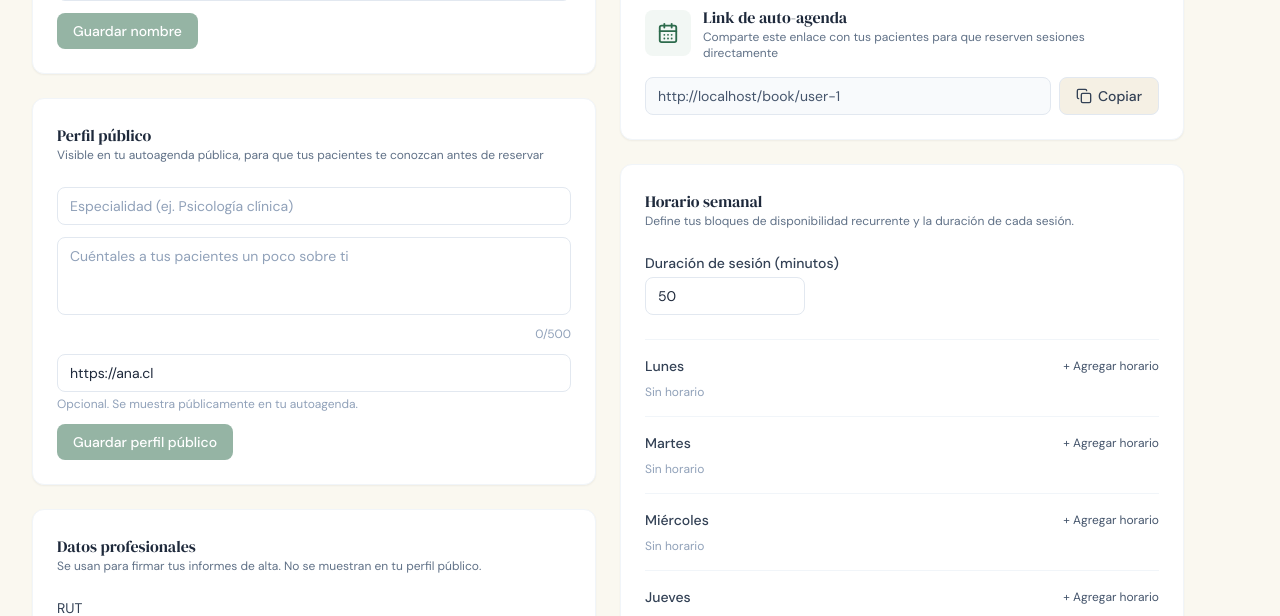
Test: ProfilePage — account-settings Req: Profile Section Scope › sitio web del perfil público › precarga el sitio web guardado y lo envía por PATCH al editarlo
(page scrolled)
Expected: the button "Guardar perfil público" is disabled, 57,424 -> 233,460
Replace the text in the field named "Sitio web" with "https://nuevo.cl" at (314, 373), box 57,354 -> 571,392
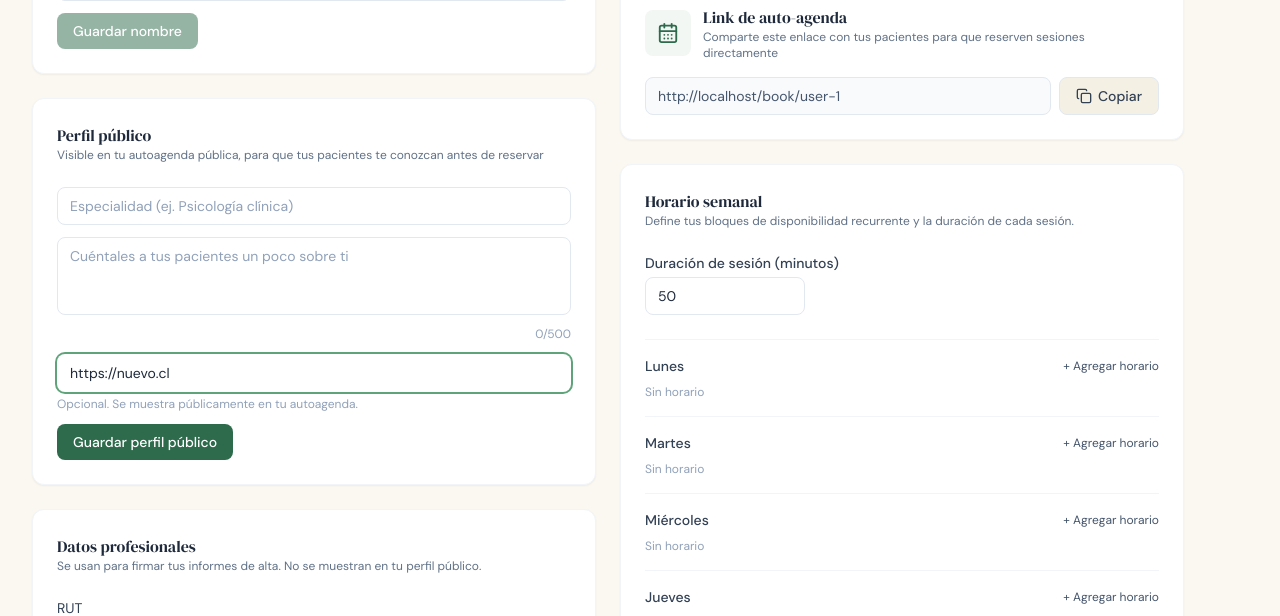
Click the button "Guardar perfil público" at (145, 442), box 57,424 -> 233,460
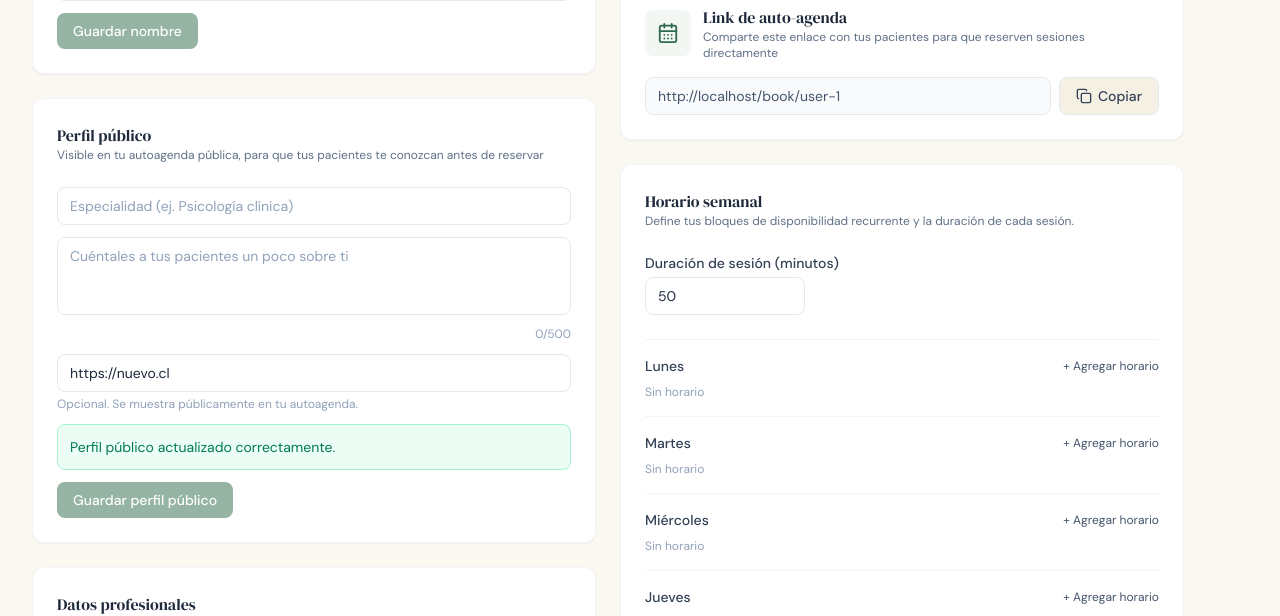
Expected: the text "Perfil público actualizado correctamente." is shown, 70,438 -> 335,456
